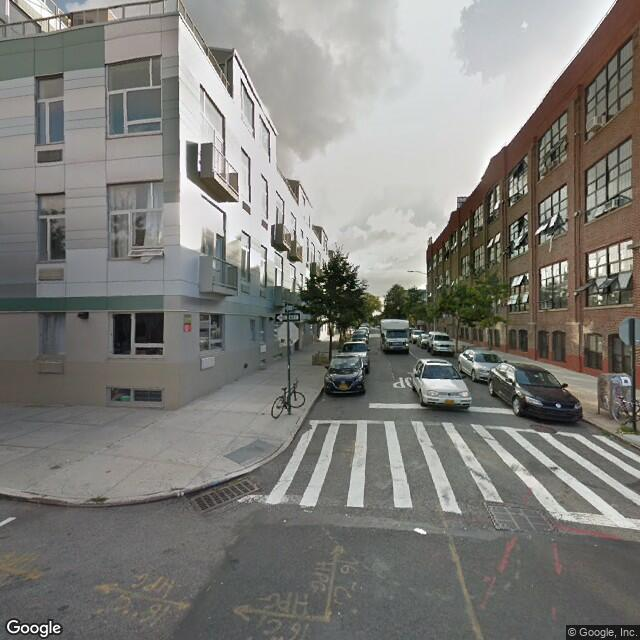litter: (412, 524, 428, 535), (318, 396, 328, 402), (281, 516, 285, 519)
